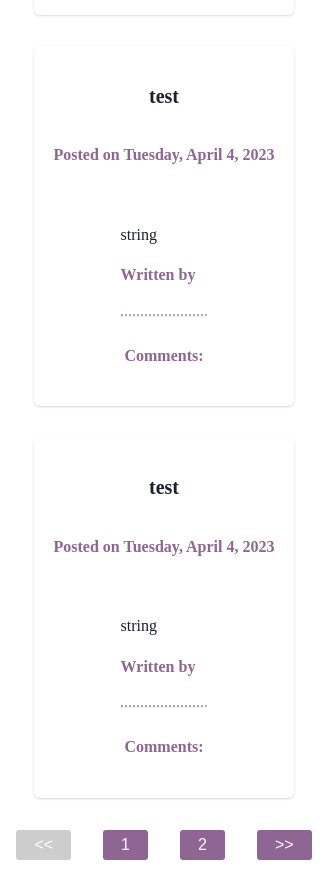
Test: Posts › with 7 posts › should render pagination buttons correctly when on second page
(page scrolled)
Click the button with test id "pagination-next" at (284, 845), box x1=257 y1=830 x2=312 y2=860
(page scrolled)
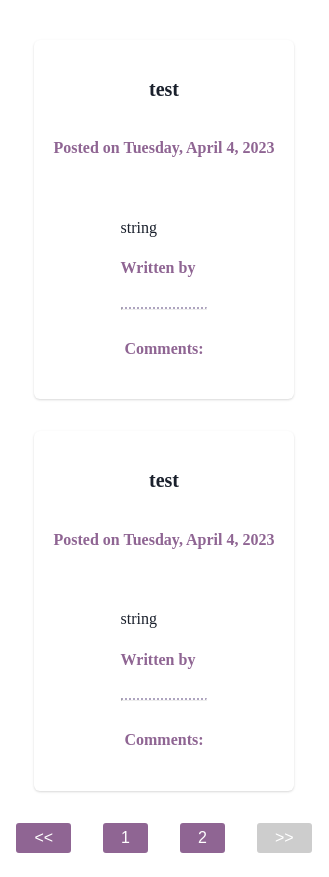
Expected: the number of elements with test id "post-card" is 2, x1=18 y1=24 x2=310 y2=415; x1=18 y1=415 x2=310 y2=807
Expected: the button with test id "pagination-previous" is enabled, x1=16 y1=823 x2=71 y2=853
Expected: the button with test id "pagination-next" is disabled, x1=257 y1=823 x2=312 y2=853
